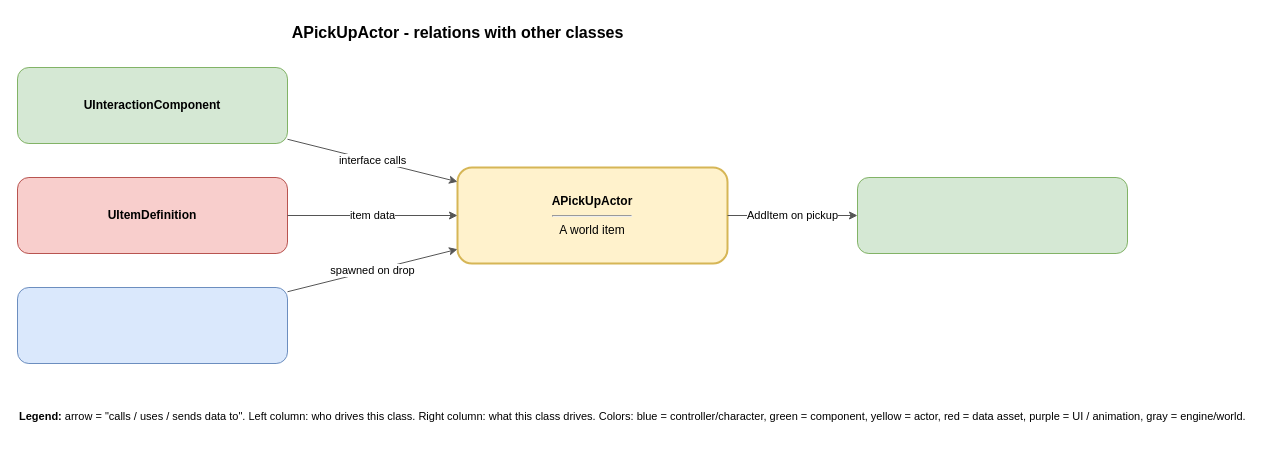
This 1264x460 diagram has some shape labels left out. Here are the shapes that lost their labels. From the top down, the box of each, then its label:
(856, 176, 1128, 254): UInventoryComponent
(16, 286, 288, 364): AFPSCharacter
